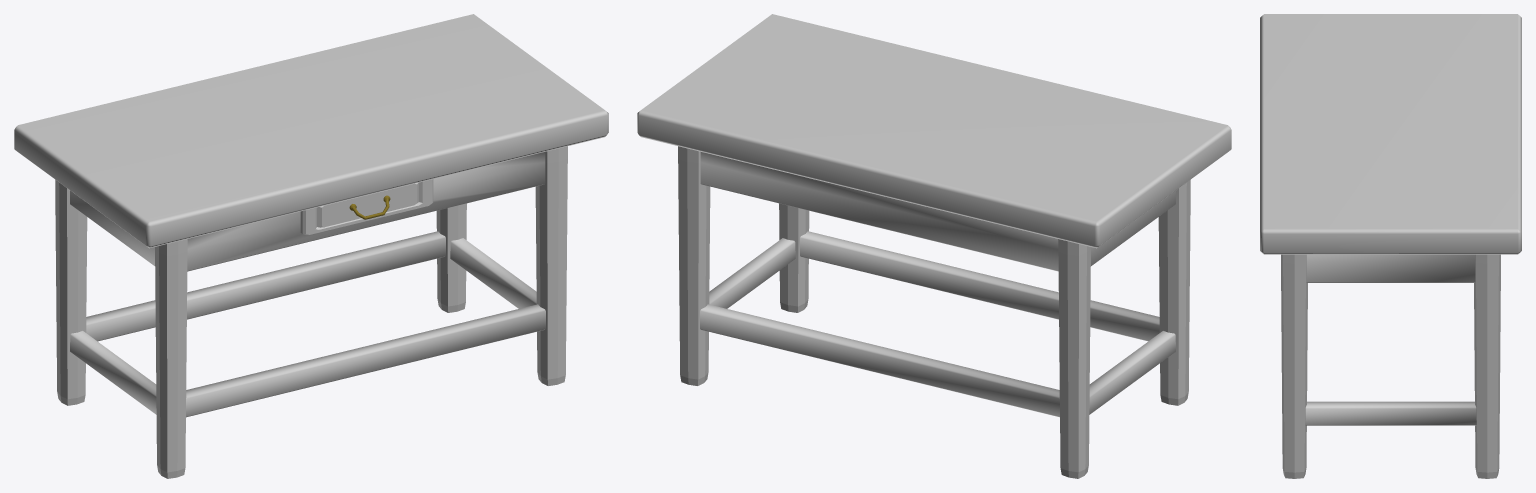
The model's file is K03_Prep_Table.fbx.
3 views of the same model, side by side, from view 1: azimuth 30°, elevation 25°; view 2: azimuth 150°, elevation 25°; view 3: azimuth 270°, elevation 25° (orthographic). The views are drawn at different scales.
Visible parts, largest first — view 1: K03_Prep_Table; view 2: K03_Prep_Table; view 3: K03_Prep_Table.
Boxes of the visible parts, left/top/right/bottom form: K03_Prep_Table: left=14, top=14, right=608, bottom=478; K03_Prep_Table: left=637, top=14, right=1231, bottom=478; K03_Prep_Table: left=1260, top=14, right=1521, bottom=478.
Size of the model in its own units: 1.51 by 0.85 by 0.766.
